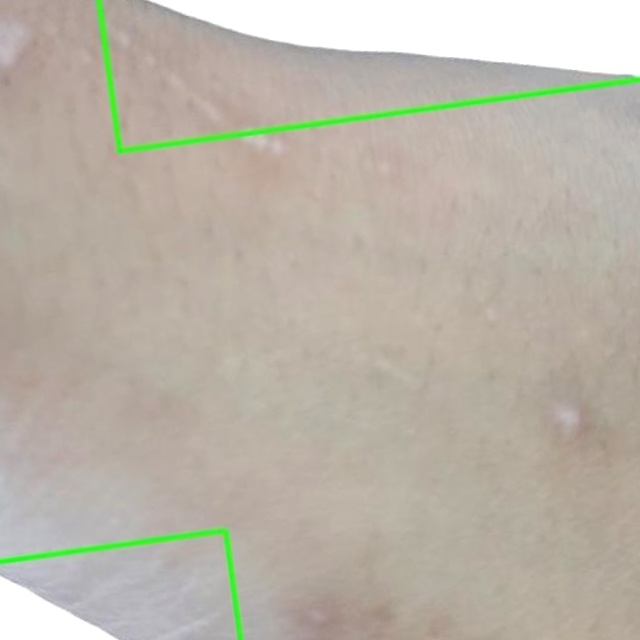Scabies: (98, 0, 639, 151)
